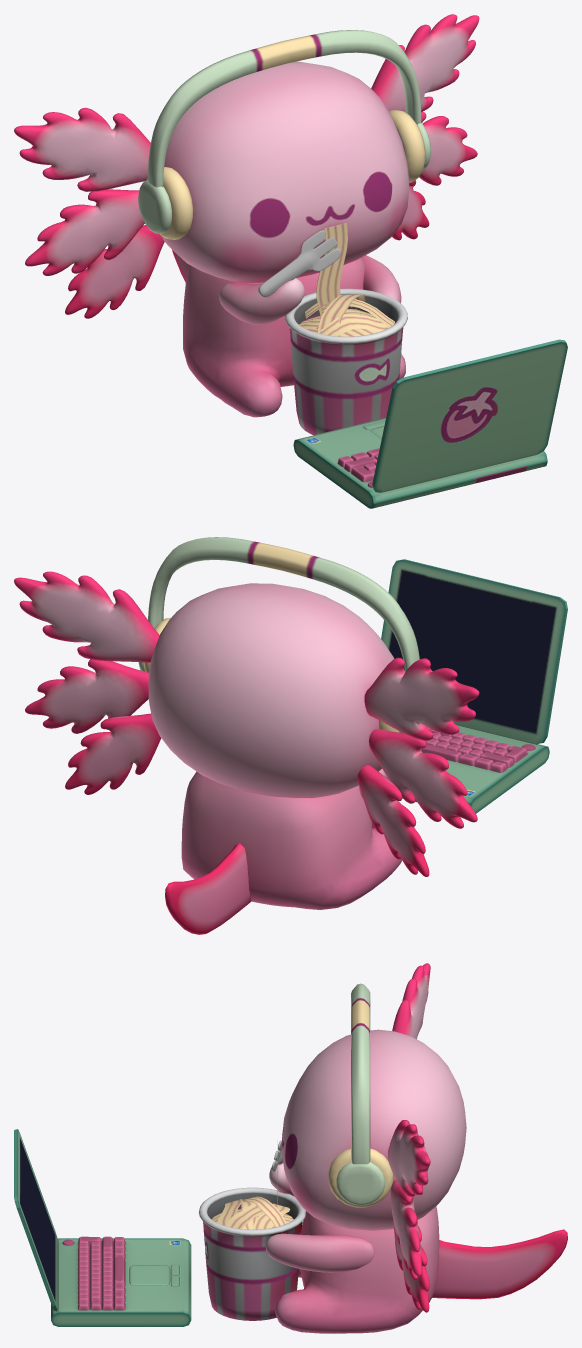
Rendered from cute_axolotl.glb.
3 renders of one model, top to bottom at view 1: azimuth 30°, elevation 25°; view 2: azimuth 150°, elevation 25°; view 3: azimuth 270°, elevation 25°, orthographic. The views are drawn at different scales.
Visible parts, largest first — view 1: pCube1, pCube27, pCube3, polySurface1, pTorus1, pCube5, pCube25, pCube26, pCube6, pCube14, pCube12, pCube13 (+6 smaller); view 2: pCube1, pCube27, polySurface1, pCube3, pCube5, pCube6, pCube25, pCube22, pCube26, pCube76; view 3: pCube1, polySurface1, pTorus1, pCube26, pCube22, pCube3, pCube27, pCube25, pCube76, pCube11, pCube5, pCube24 (+5 smaller).
Boxes of the visible parts, x1,y1,x2,y2 form: pCube1: (161,61,409,282); pCube27: (372,339,567,492); pCube3: (14,14,479,191); polySurface1: (183,257,405,417); pTorus1: (284,288,407,435); pCube5: (25,111,477,275); pCube25: (148,30,421,187); pCube26: (293,417,547,508); pCube6: (65,180,429,318); pCube14: (146,110,425,239); pCube12: (219,278,304,324); pCube13: (258,230,340,297); pCube1: (148,583,394,798); pCube27: (381,559,567,744); polySurface1: (181,771,402,909); pCube3: (14,571,479,740); pCube5: (25,659,477,828); pCube6: (65,713,429,876); pCube25: (148,537,419,671); pCube22: (165,843,251,934); pCube26: (402,725,549,813); pCube76: (421,727,527,772); pCube1: (281,1029,466,1230); polySurface1: (275,1206,439,1333); pTorus1: (198,1187,306,1320); pCube26: (51,1238,191,1326); pCube22: (432,1229,567,1299); pCube3: (387,963,430,1196); pCube27: (14,1129,58,1310); pCube25: (351,983,370,1164); pCube76: (78,1236,125,1310); pCube11: (265,1233,374,1272); pCube5: (390,1180,422,1280); pCube24: (336,1162,384,1205).
Bounding box in the file's own units: 0.0679 × 0.0467 × 0.08.
1 material, 1 textured.
